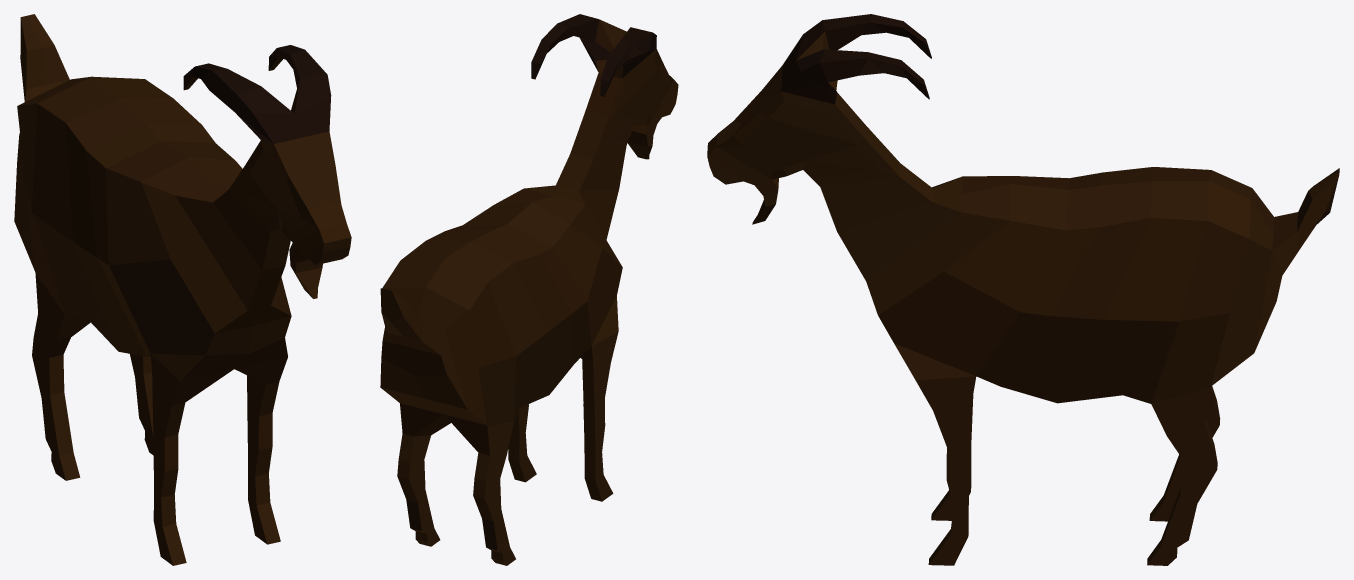
Rendered from goat.fbx.
3 views of the same model, side by side, from view 1: azimuth 30°, elevation 25°; view 2: azimuth 150°, elevation 25°; view 3: azimuth 270°, elevation 25° (orthographic). The views are drawn at different scales.
Visible parts, largest first — view 1: Goat; view 2: Goat; view 3: Goat.
Part boxes in pixels (left/top/right/bottom): Goat: left=14, top=14, right=351, bottom=565; Goat: left=380, top=14, right=678, bottom=565; Goat: left=707, top=14, right=1339, bottom=565.
Size of the model in its own units: 688 by 2294 by 2606.
